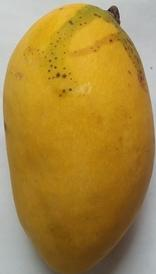Ripe: (1, 1, 156, 274)
